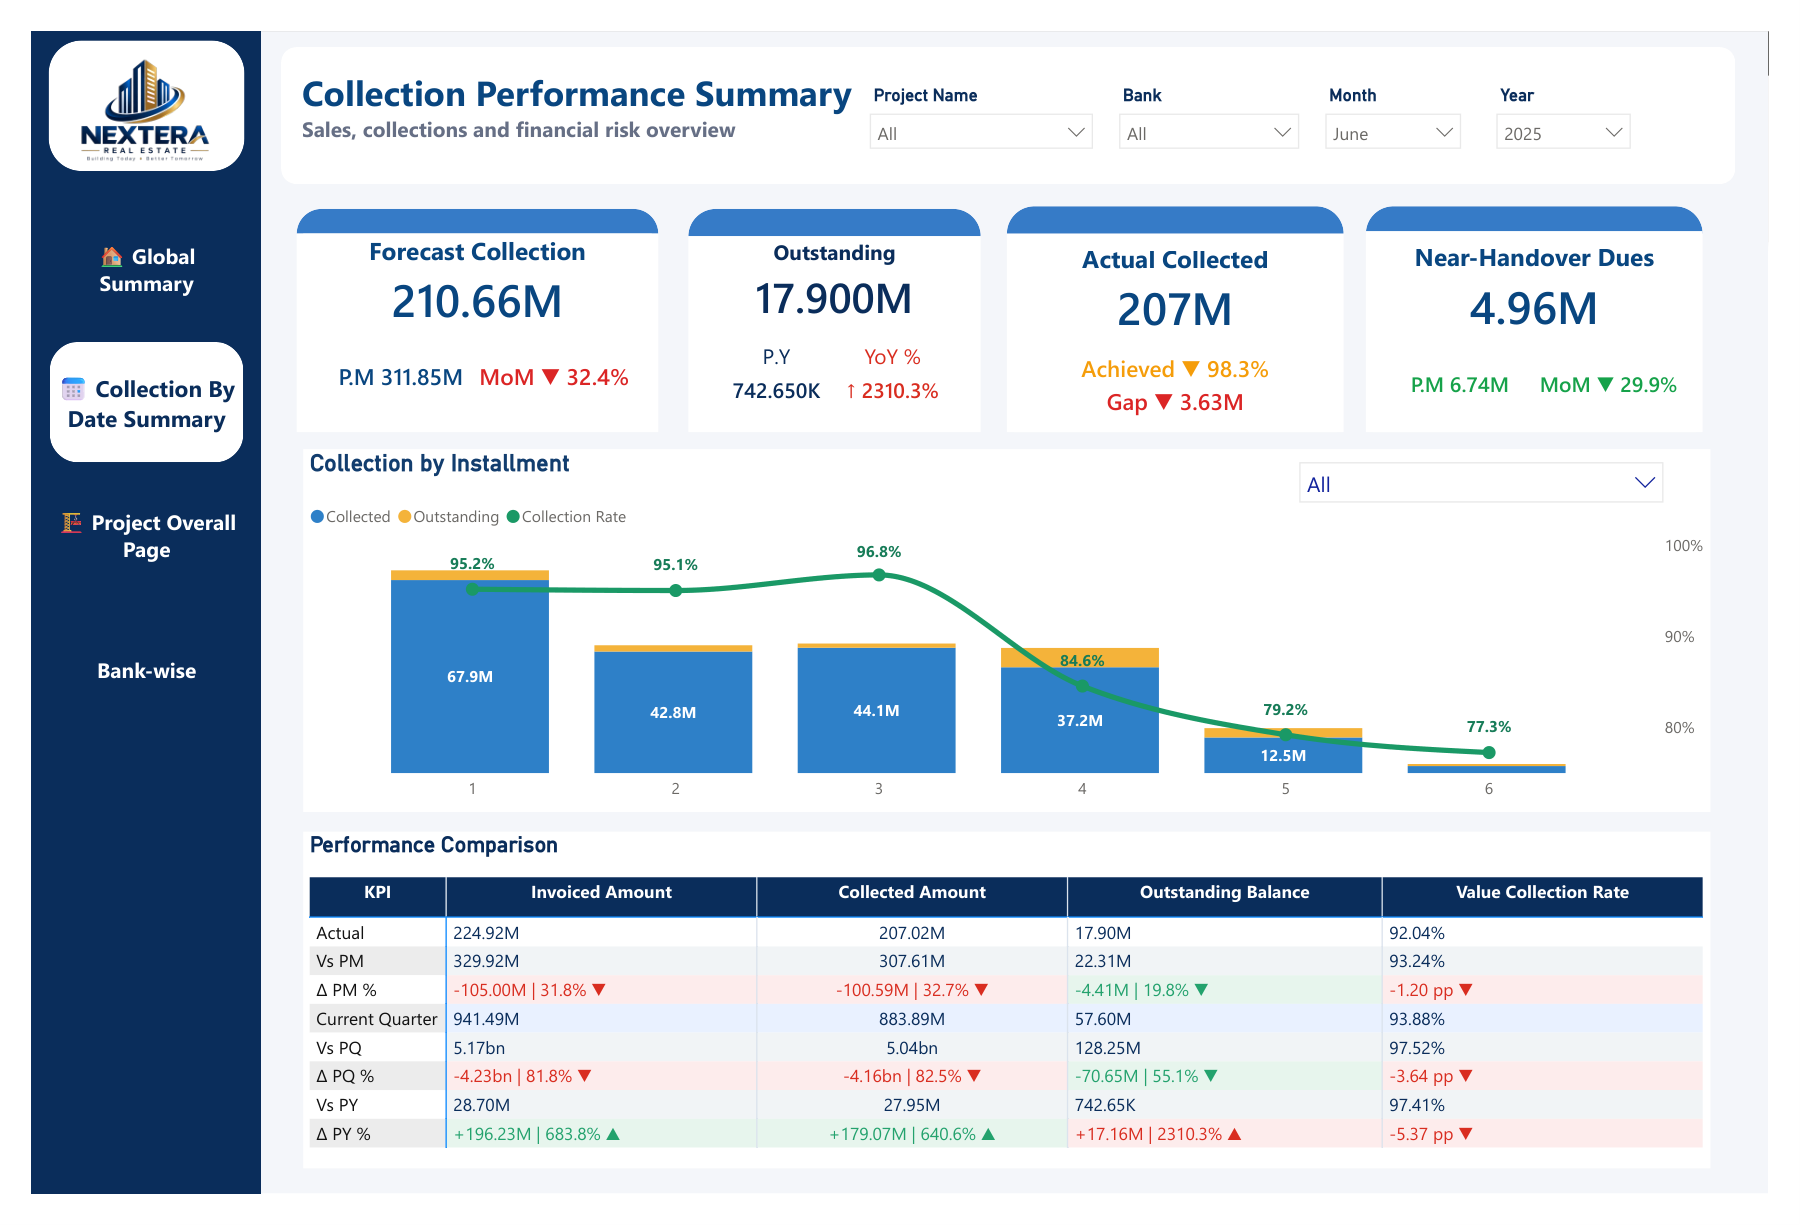

This screenshot's page, from the dashboard's own definition file:
{"tool":"powerbi","page":{"name":"📅 Collection By Date Summary","canvas":[1330,890],"ordinal":1},"visuals":[{"type":"shape","box":[0,0,175.4,890],"z":0},{"type":"pageNavigator","box":[13.6,136.2,148.8,400.7],"z":1000},{"type":"shape","box":[190.5,11.5,1114.8,105.7],"z":2000},{"type":"shape","box":[12.6,6.8,150,100],"z":3000},{"type":"image","box":[12.6,6.8,148.8,107],"z":4000},{"type":"textbox","box":[202.3,23.3,575.8,73.9],"z":5000},{"type":"slicer","fields":{"Values":["Dim Project.Project Name"]},"box":[632.2,36,190.6,55.4],"z":6000},{"type":"slicer","fields":{"Values":["Dim Bank.Bank"]},"box":[822.9,36,158.5,60.3],"z":7000},{"type":"slicer","fields":{"Values":["DimDate.Month Name"]},"box":[981.4,36,123.5,61.3],"z":8000},{"type":"slicer","fields":{"Values":["DimDate.Year"]},"box":[1111.7,36,123.5,61.3],"z":9000},{"type":"shape","box":[202.5,135.7,277.2,19.7],"z":10000},{"type":"shape","box":[503.3,135.7,224.1,21.6],"z":11000},{"type":"cardVisual","fields":{"Data":["Dax.Expected Collection"]},"box":[202.5,155.3,277.2,151.4],"z":12000},{"type":"cardVisual","fields":{"Data":["Dax.Actual Collected"]},"box":[747.1,155.3,257.6,151.4],"z":13000},{"type":"shape","box":[747.1,133.7,257.6,21.6],"z":14000},{"type":"shape","box":[1022.4,133.7,257.6,21.6],"z":15000},{"type":"cardVisual","fields":{"Data":["Dax.High Completion Exposure"]},"box":[1022.4,153.4,257.6,153.4],"z":16000},{"type":"cardVisual","fields":{"Data":["Dax.Outstanding Balance"]},"box":[503.3,157.3,224.1,149.4],"z":17000},{"type":"lineStackedColumnComboChart","title":"Collection by Installment","fields":{"Category":["DimDate.Week Start","Fact Payment.Payment Number"],"Y":["Dax.Installment Collected","Dax.Installment Outstanding"],"Y2":["Dax.Installment Value Rate"]},"box":[208.4,320.5,1077.5,277.2],"z":18000},{"type":"slicer","fields":{"Values":["Parameter 3.Parameter"]},"box":[961.5,320.5,298.9,51.1],"z":19000},{"type":"pivotTable","title":"Performance Comparison","fields":{"Rows":["KPI Comparison Rows.KPI"],"Values":["Dax.Invoiced Amount KPI Matrix","Dax.Collected Amount KPI Matrix","Dax.Outstanding Balance KPI Matrix","Dax.Value Collection Rate KPI Matrix"]},"box":[208.4,613.4,1077.5,257.6],"z":20000}]}

Visuals, with their boxes in screenshot pixels (x1, y1, x2, y2), scaled from the page's 1330x890 canvas onto the 1800x1225 screenshot:
shape: [0, 0, 237, 1224]
pageNavigator: [18, 187, 220, 739]
shape: [258, 16, 1767, 161]
shape: [17, 9, 220, 147]
image: [17, 9, 218, 157]
textbox: [274, 32, 1053, 134]
slicer - Dim Project.Project Name: [856, 50, 1114, 126]
slicer - Dim Bank.Bank: [1114, 50, 1328, 133]
slicer - DimDate.Month Name: [1328, 50, 1495, 134]
slicer - DimDate.Year: [1505, 50, 1672, 134]
shape: [274, 187, 649, 214]
shape: [681, 187, 984, 217]
cardVisual - Dax.Expected Collection: [274, 214, 649, 422]
cardVisual - Dax.Actual Collected: [1011, 214, 1360, 422]
shape: [1011, 184, 1360, 214]
shape: [1384, 184, 1732, 214]
cardVisual - Dax.High Completion Exposure: [1384, 211, 1732, 422]
cardVisual - Dax.Outstanding Balance: [681, 217, 984, 422]
"Collection by Installment" lineStackedColumnComboChart: [282, 441, 1740, 823]
slicer - Parameter 3.Parameter: [1301, 441, 1706, 511]
"Performance Comparison" pivotTable: [282, 844, 1740, 1199]
